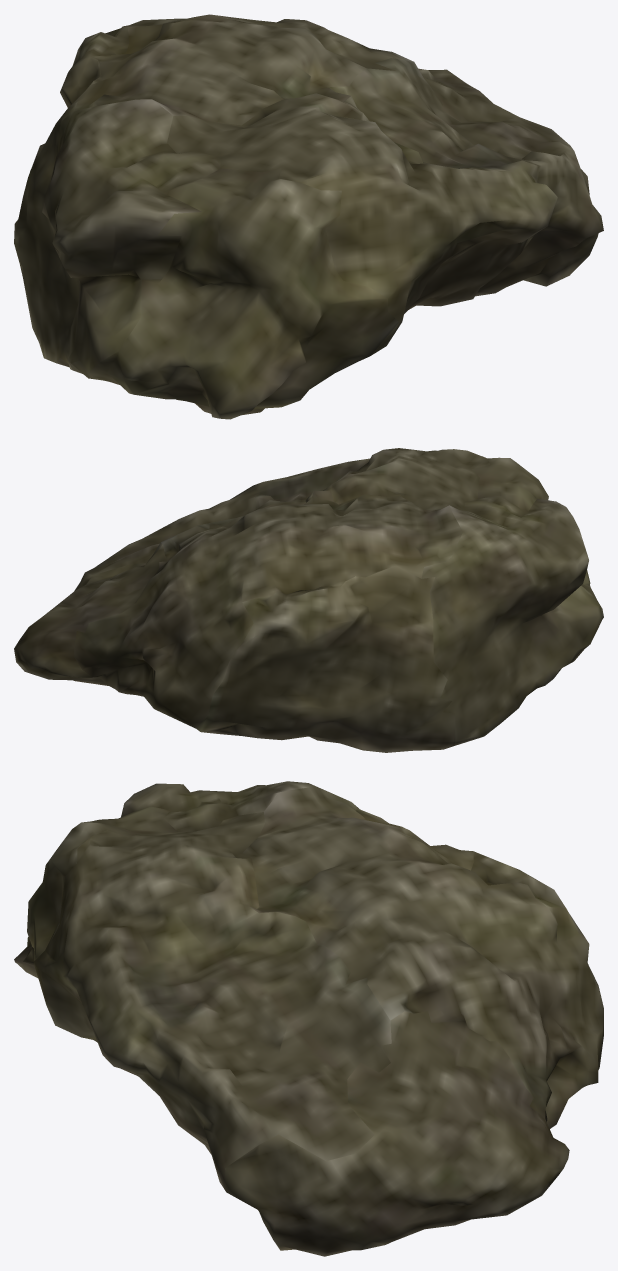
3 views of the same model, one above another, from view 1: azimuth 30°, elevation 25°; view 2: azimuth 150°, elevation 25°; view 3: azimuth 270°, elevation 25° (orthographic). The views are drawn at different scales.
Parts seen in each view (by area): view 1: rock_moss_set_02__f_lod1; view 2: rock_moss_set_02__f_lod1; view 3: rock_moss_set_02__f_lod1.
Boxes of the visible parts, x1=… form: rock_moss_set_02__f_lod1: x1=14, y1=14, x2=603, y2=419; rock_moss_set_02__f_lod1: x1=14, y1=448, x2=603, y2=752; rock_moss_set_02__f_lod1: x1=14, y1=781, x2=603, y2=1256.
Size of the model in its own units: 1.58 by 0.736 by 1.44.
Materials: 1 (1 with a texture image).
